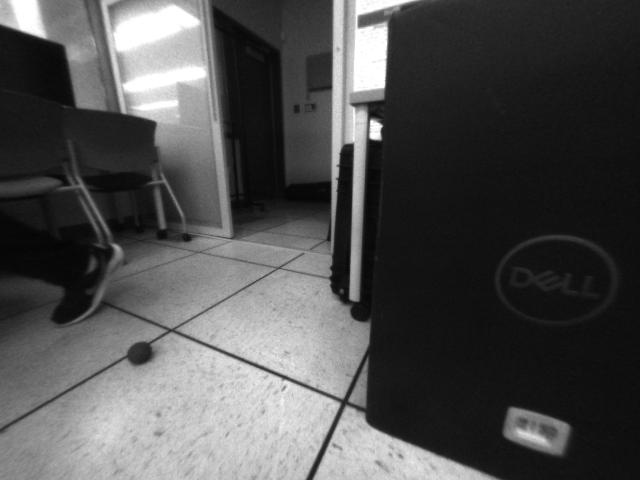dogtoy: (122, 338, 158, 370)
